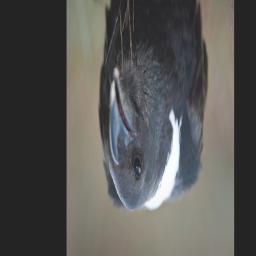Crow: (98, 0, 207, 214)
